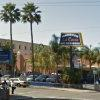Palm tree: (3, 2, 45, 65)
